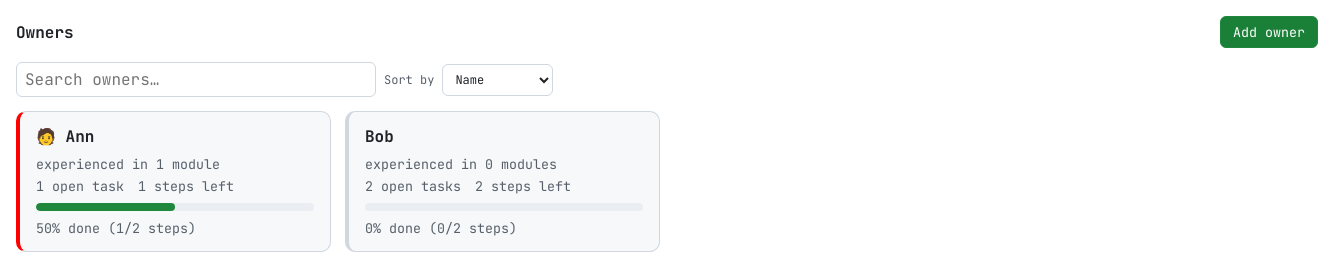
owner list search and sort › searches fuzzily and sorts by open tasks
The width and height of the screenshot is (1335, 269).
Expected: the text "2 open tasks" is shown, [365,177,461,195]
Expected: the text "1 open task" is shown, [36,177,124,195]
Select "Open tasks" in the dropdown named "Sort owners" at {"x": 498, "y": 80}, box [442,64,553,96]
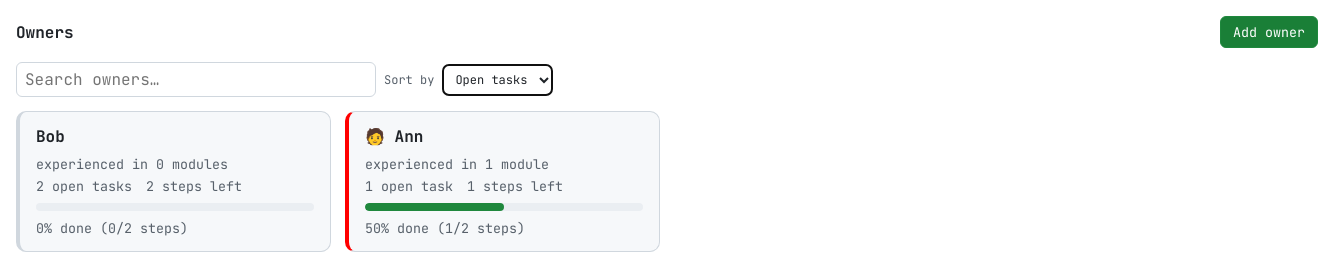
Type "an" into the search field labelled "Search owners" at {"x": 196, "y": 80}, box [16,62,376,97]
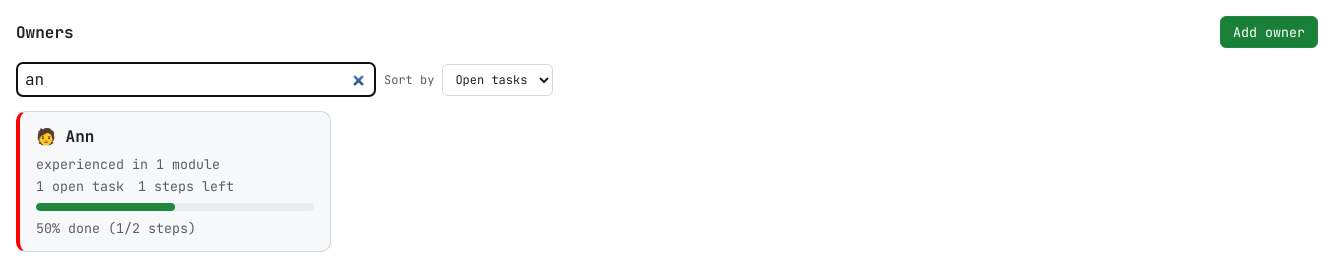
Replace the text in the search field named "Search owners" with "zzz" at {"x": 196, "y": 80}, box [16,62,376,97]
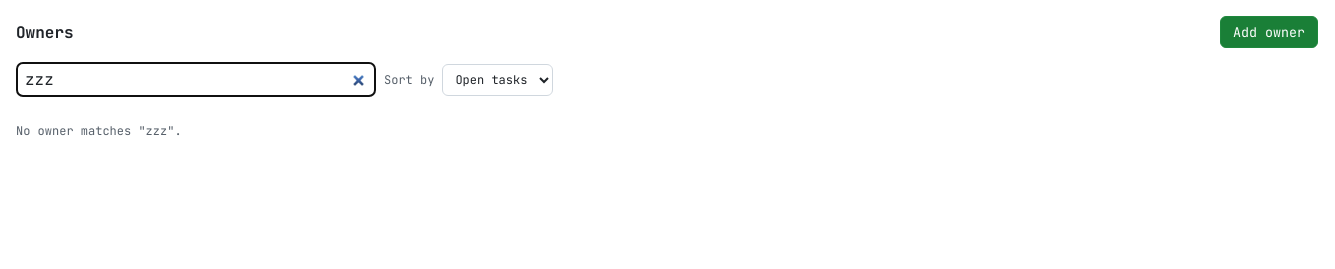
Expected: the text "No owner matches \"zzz\"." is shown, [16,123,182,139]
